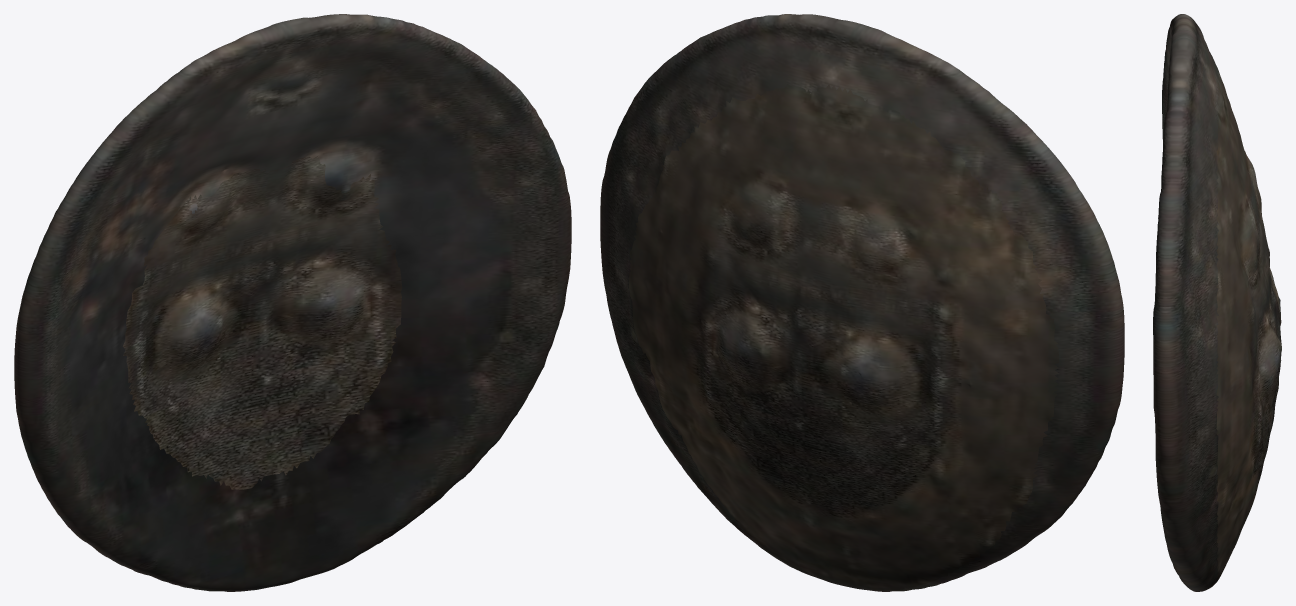
Rendered from kfl-2131.glb.
3 renders of one model, left to right at view 1: azimuth 30°, elevation 25°; view 2: azimuth 150°, elevation 25°; view 3: azimuth 270°, elevation 25°, orthographic. The views are drawn at different scales.
Visible parts, largest first — view 1: geometry_0; view 2: geometry_0; view 3: geometry_0.
Part boxes in pixels (x1,y1,x2,y2): geometry_0: (14, 14, 571, 591); geometry_0: (600, 14, 1124, 591); geometry_0: (1153, 14, 1281, 591).
Bounding box in the file's own units: 0.9911 × 0.992 × 0.2196.
1 material, 1 textured.
